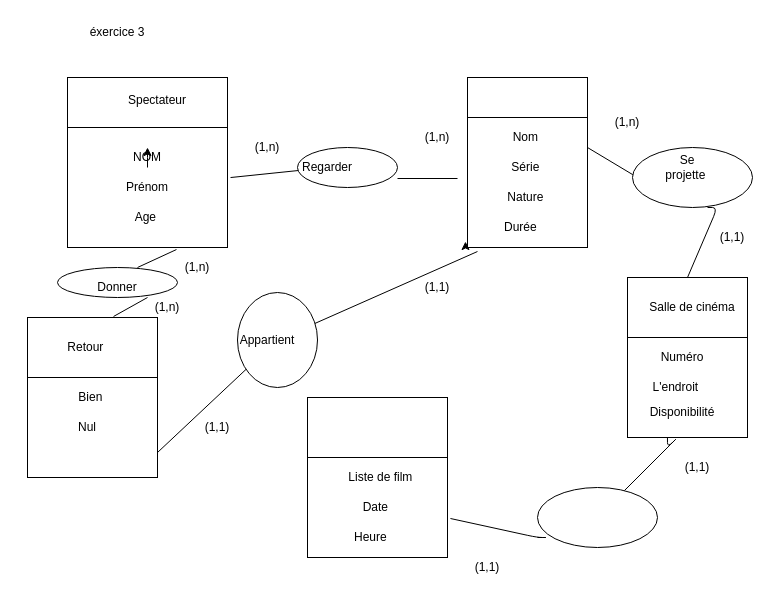
The diagram is 770 pixels wide and 594 high, and some of its shapes have lost their labels. Here are the shapes that lost their labels. From the top down, the box of each, then its label:
(466, 76, 588, 118): Film
(306, 396, 448, 458): Projection
(536, 486, 658, 548): Défuse
